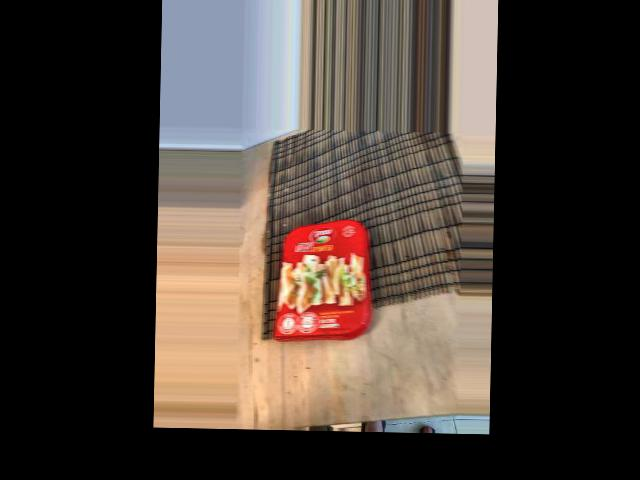cheese: (324, 224, 458, 316)
